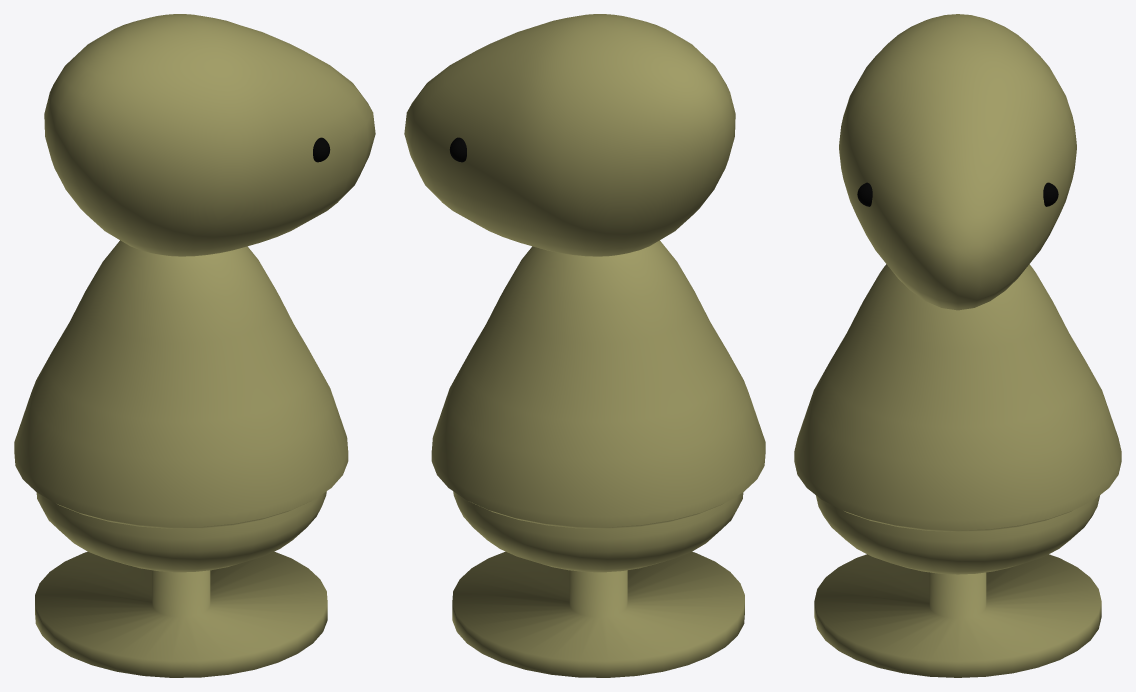
File: 006Dummy.fbx
The picture shows the model from 3 angles, left to right: view 1: azimuth 30°, elevation 25°; view 2: azimuth 150°, elevation 25°; view 3: azimuth 270°, elevation 25°; orthographic projection. The views are drawn at different scales.
Parts seen in each view (by area): view 1: 球.001, 球, 円柱; view 2: 球.001, 球, 円柱; view 3: 球.001, 球, 円柱, 球.002.
Boxes of the visible parts, x1,y1,x2,y2 form: 球.001: (14,240,348,572); 球: (44,14,375,256); 円柱: (35,551,327,677); 球.001: (431,240,765,572); 球: (404,14,735,256); 円柱: (452,551,744,677); 球.001: (794,264,1121,574); 球: (839,14,1076,310); 円柱: (814,554,1101,677); 球.002: (857,182,1058,206).
Bounding box in the file's own units: 317 × 536 × 275.
